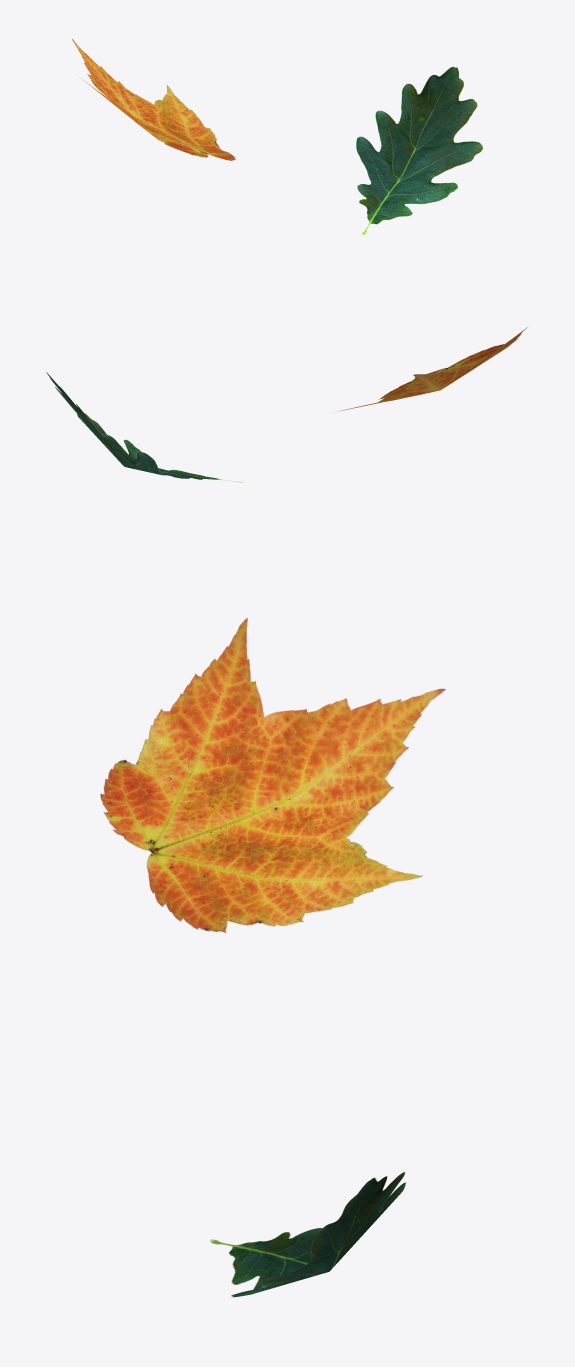
The model's file is low_poly_leaves.glb.
The picture shows the model from 3 angles, top to bottom: view 1: azimuth 30°, elevation 25°; view 2: azimuth 150°, elevation 25°; view 3: azimuth 270°, elevation 25°; orthographic projection. The views are drawn at different scales.
Parts seen in each view (by area): view 1: Object_3, Object_2; view 2: Object_2, Object_3; view 3: Object_2, Object_3.
Part boxes in pixels (x1,y1,x2,y2): Object_3: [356, 66, 483, 236]; Object_2: [72, 38, 235, 160]; Object_2: [335, 327, 527, 412]; Object_3: [46, 372, 244, 482]; Object_2: [100, 617, 446, 932]; Object_3: [210, 1172, 405, 1297].
Size of the model in its own units: 0.8999 by 0.4817 by 0.4727.
Materials: 2 (2 with a texture image).
